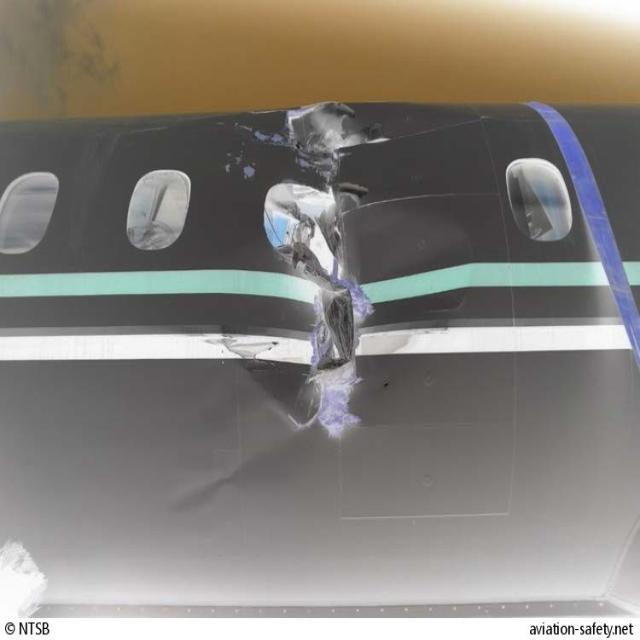crack: (229, 89, 416, 454), (265, 102, 392, 433)
dent: (158, 420, 320, 521), (367, 217, 477, 314), (158, 444, 281, 521)
